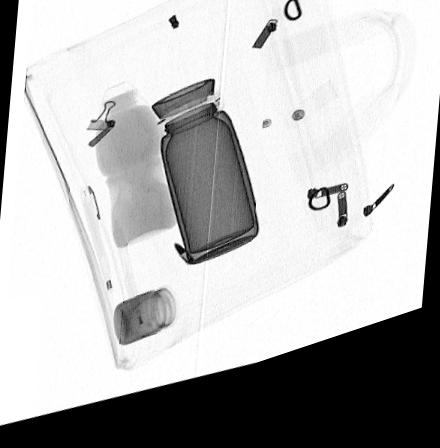Bullet: (173, 254, 192, 274)
